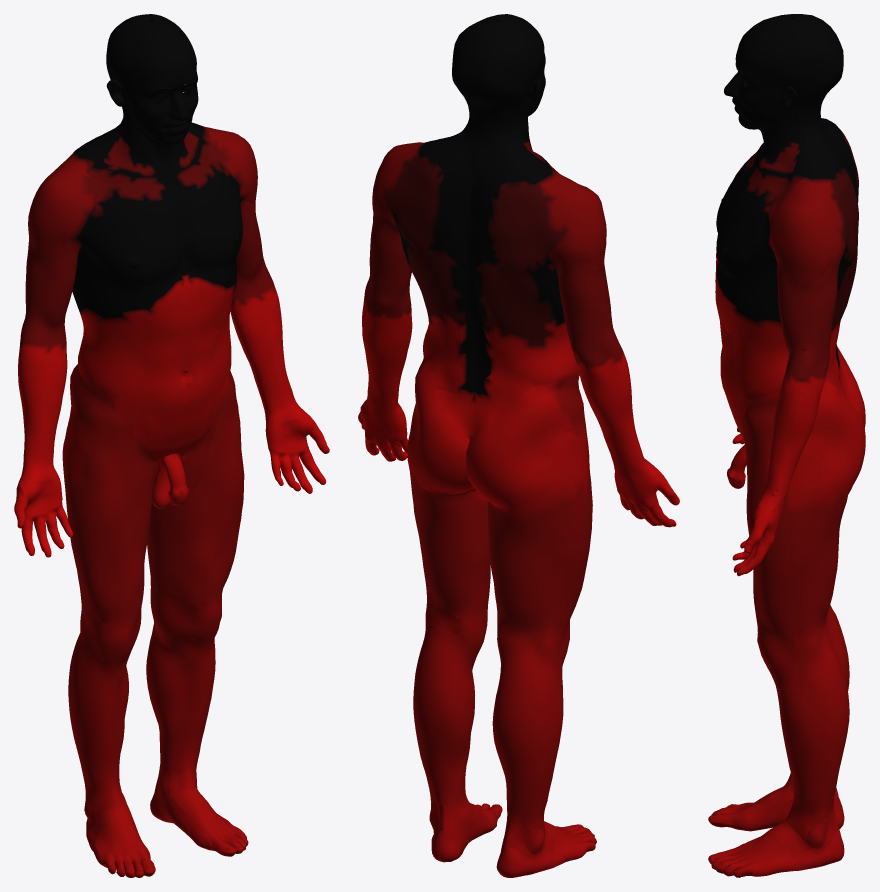
The model's file is pele.glb.
3 renders of one model, left to right at view 1: azimuth 30°, elevation 25°; view 2: azimuth 150°, elevation 25°; view 3: azimuth 270°, elevation 25°, orthographic.
Visible parts, largest first — view 1: Pele; view 2: Pele; view 3: Pele.
Boxes of the visible parts, left/top/right/bottom form: Pele: left=14, top=14, right=329, bottom=877; Pele: left=358, top=14, right=679, bottom=877; Pele: left=708, top=14, right=865, bottom=877.
Size of the model in its own units: 0.6796 by 1.71 by 0.294.
